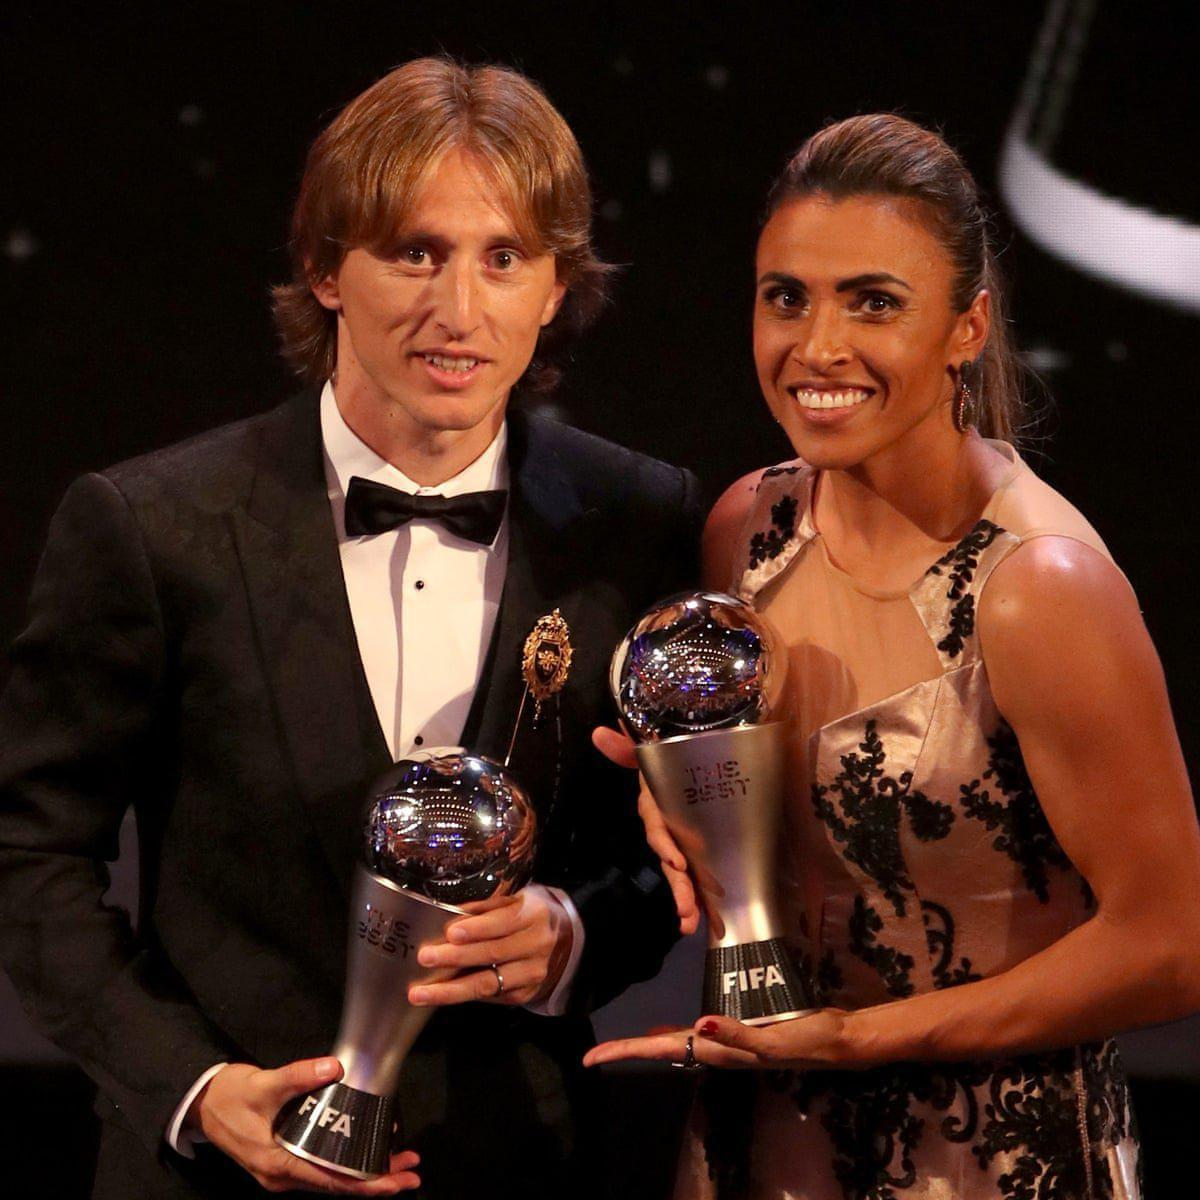Sober: (336, 148, 545, 420), (753, 211, 946, 452)
